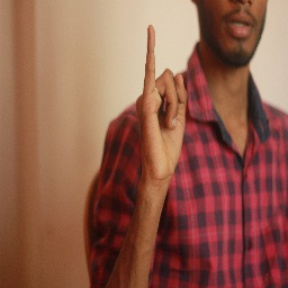I: (135, 22, 195, 170)
